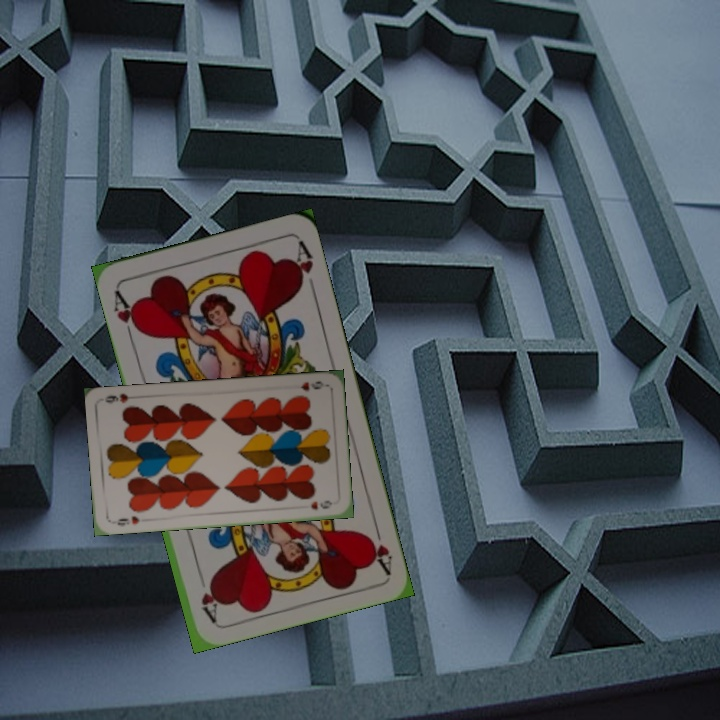H9: (297, 377, 326, 394), (113, 512, 142, 529)
HA: (109, 286, 144, 343), (362, 517, 395, 575)
